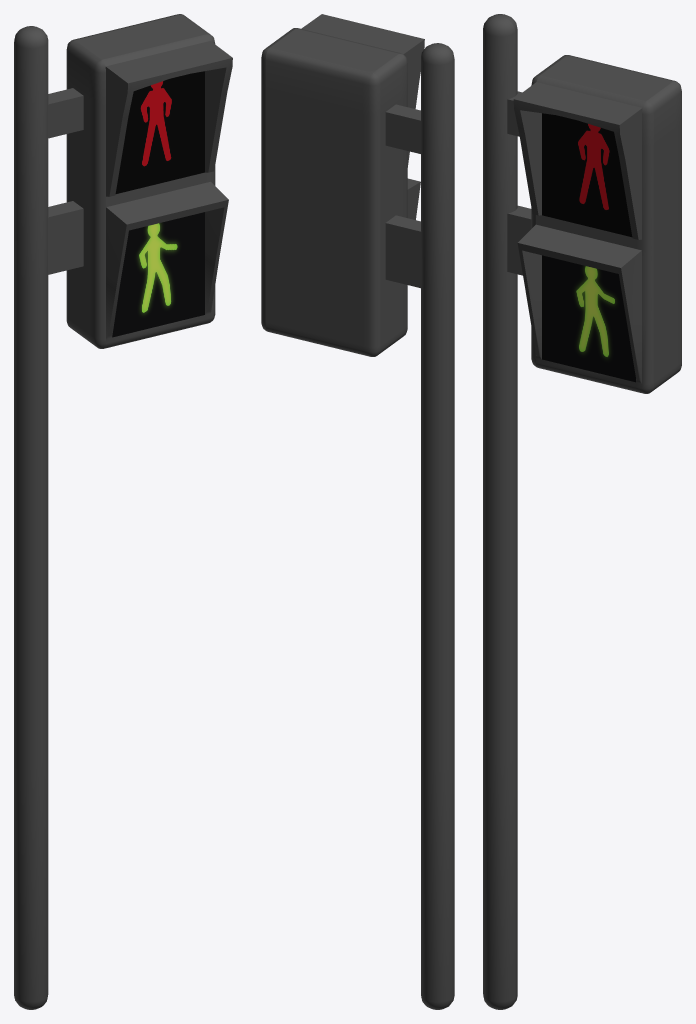
The model's file is shinho.glb.
3 views of the same model, side by side, from view 1: azimuth 30°, elevation 25°; view 2: azimuth 150°, elevation 25°; view 3: azimuth 330°, elevation 25° (orthographic). The views are drawn at different scales.
Visible parts, largest first — view 1: Cube.001; view 2: Cube.001; view 3: Cube.001.
Boxes of the visible parts, box(x1,y1,x2,y2) form: Cube.001: box(14, 14, 232, 1009); Cube.001: box(261, 14, 454, 1009); Cube.001: box(483, 14, 681, 1009).
Bounding box in the file's own units: 2.2 × 11.31 × 1.2.
3 materials, 2 textured.
